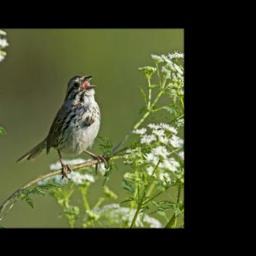Sparrow: (15, 73, 111, 181)
